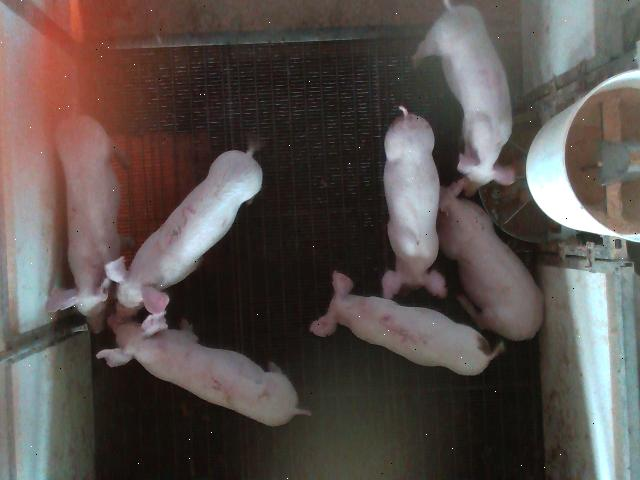pig-3: (105, 151, 262, 321)
pig-4: (414, 2, 515, 195)
pig-5: (310, 272, 504, 375)
